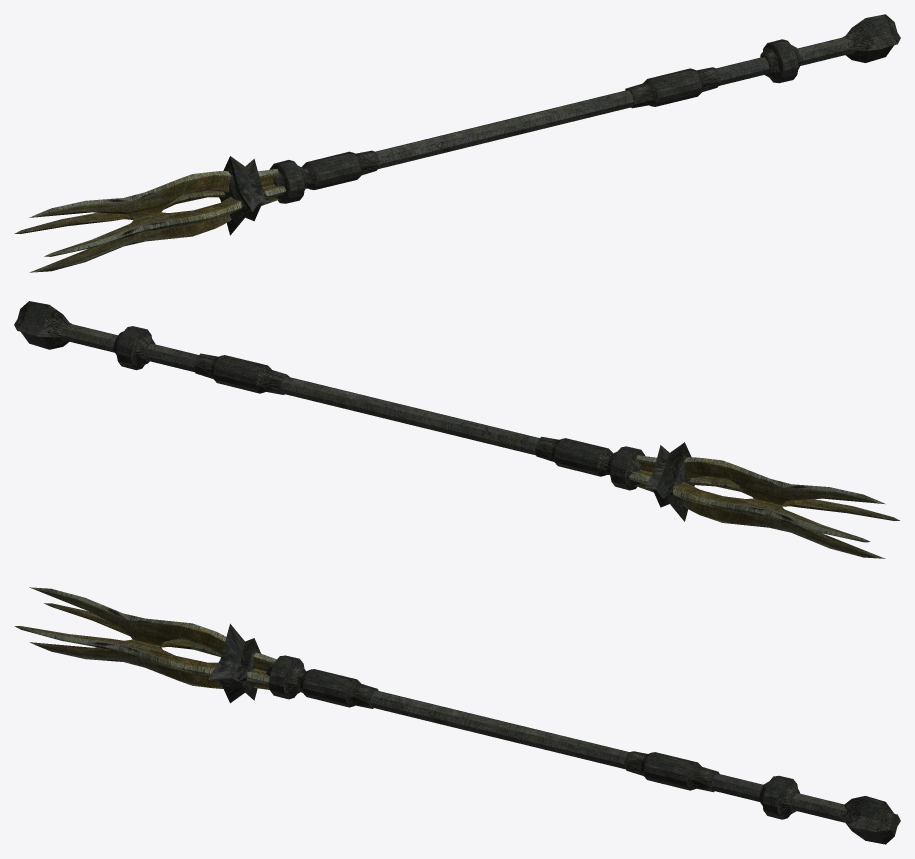
The model's file is G3_WEAPON_STAFF_SCEPTREOFVARANT_02.glb.
The picture shows the model from 3 angles, top to bottom: view 1: azimuth 30°, elevation 25°; view 2: azimuth 150°, elevation 25°; view 3: azimuth 330°, elevation 25°; orthographic projection.
Parts seen in each view (by area): view 1: G3_WEAPON_STAFF_SCEPTREOFVARANT_02; view 2: G3_WEAPON_STAFF_SCEPTREOFVARANT_02; view 3: G3_WEAPON_STAFF_SCEPTREOFVARANT_02.
Part boxes in pixels (<box>): G3_WEAPON_STAFF_SCEPTREOFVARANT_02: <box>14,14,900,272</box>; G3_WEAPON_STAFF_SCEPTREOFVARANT_02: <box>14,301,899,558</box>; G3_WEAPON_STAFF_SCEPTREOFVARANT_02: <box>14,587,900,844</box>.
Bounding box in the file's own units: 2.91 × 0.2572 × 0.2598.
1 material, 1 textured.
